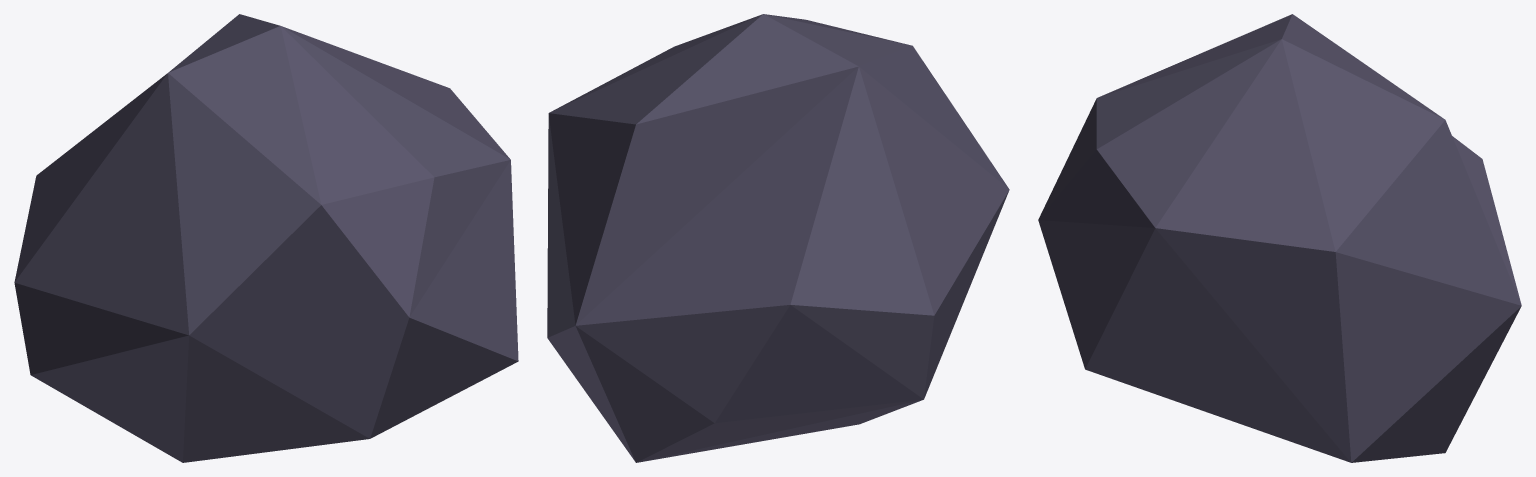
File: FireBall.fbx
The picture shows the model from 3 angles, left to right: view 1: azimuth 30°, elevation 25°; view 2: azimuth 150°, elevation 25°; view 3: azimuth 270°, elevation 25°; orthographic projection. The views are drawn at different scales.
Visible parts, largest first — view 1: pSphere1; view 2: pSphere1; view 3: pSphere1.
Boxes of the visible parts, x1,y1,x2,y2 form: pSphere1: (14,14,518,462); pSphere1: (547,14,1009,462); pSphere1: (1038,14,1521,462).
Size of the model in its own units: 112 by 107 by 119.
